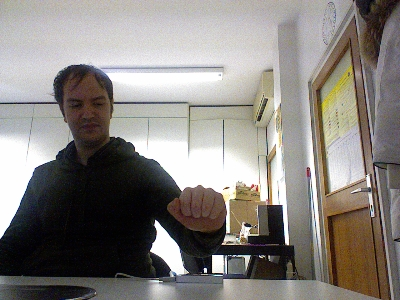石头: (164, 183, 227, 233)
